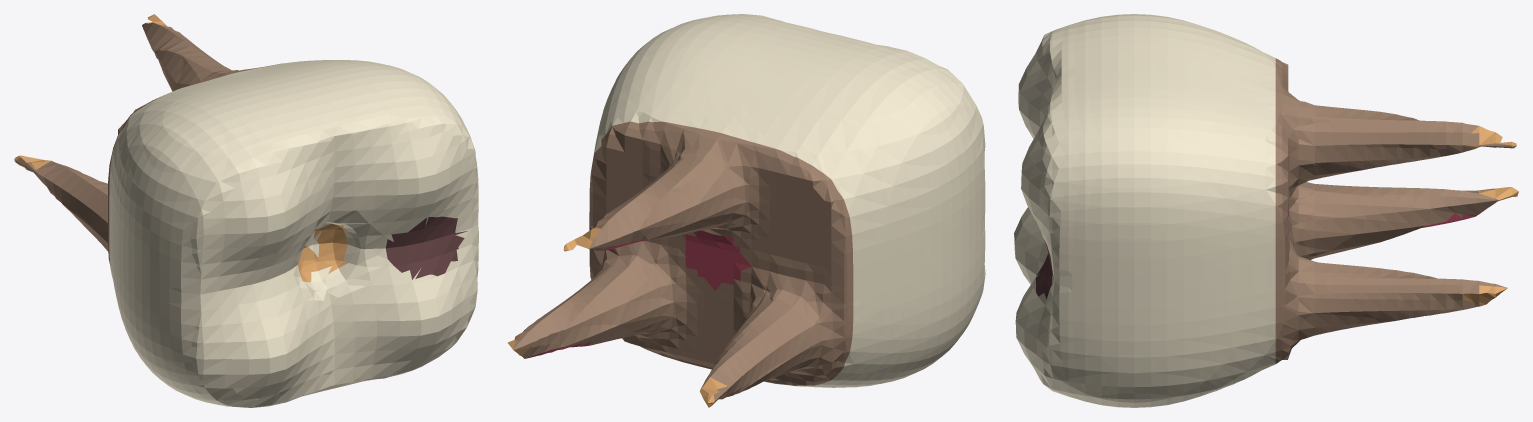
Rendered from fdi16-after-cut.obj.
3 views of the same model, side by side, from view 1: azimuth 30°, elevation 25°; view 2: azimuth 150°, elevation 25°; view 3: azimuth 270°, elevation 25° (orthographic). The views are drawn at different scales.
Visible parts, largest first — view 1: FDI16_AFTER_SIMULATED_CUT_enamel, FDI16_AFTER_SIMULATED_CUT_cementum, FDI16_AFTER_SIMULATED_CUT_caries, FDI16_AFTER_SIMULATED_CUT_dentin; view 2: FDI16_AFTER_SIMULATED_CUT_enamel, FDI16_AFTER_SIMULATED_CUT_cementum, FDI16_AFTER_SIMULATED_CUT_pulp, FDI16_AFTER_SIMULATED_CUT_dentin; view 3: FDI16_AFTER_SIMULATED_CUT_enamel, FDI16_AFTER_SIMULATED_CUT_cementum, FDI16_AFTER_SIMULATED_CUT_dentin, FDI16_AFTER_SIMULATED_CUT_caries.
Boxes of the visible parts, x1,y1,x2,y2 form: FDI16_AFTER_SIMULATED_CUT_enamel: [109, 60, 478, 407]; FDI16_AFTER_SIMULATED_CUT_cementum: [16, 22, 282, 274]; FDI16_AFTER_SIMULATED_CUT_caries: [385, 216, 467, 279]; FDI16_AFTER_SIMULATED_CUT_dentin: [14, 14, 347, 282]; FDI16_AFTER_SIMULATED_CUT_enamel: [594, 14, 985, 387]; FDI16_AFTER_SIMULATED_CUT_cementum: [513, 121, 853, 402]; FDI16_AFTER_SIMULATED_CUT_pulp: [529, 230, 751, 357]; FDI16_AFTER_SIMULATED_CUT_dentin: [507, 227, 727, 407]; FDI16_AFTER_SIMULATED_CUT_enamel: [1014, 14, 1275, 407]; FDI16_AFTER_SIMULATED_CUT_cementum: [1275, 58, 1511, 363]; FDI16_AFTER_SIMULATED_CUT_dentin: [1462, 126, 1518, 306]; FDI16_AFTER_SIMULATED_CUT_caries: [1036, 239, 1053, 299].
Bounding box in the file's own units: 21.42 × 18.42 × 28.14.
